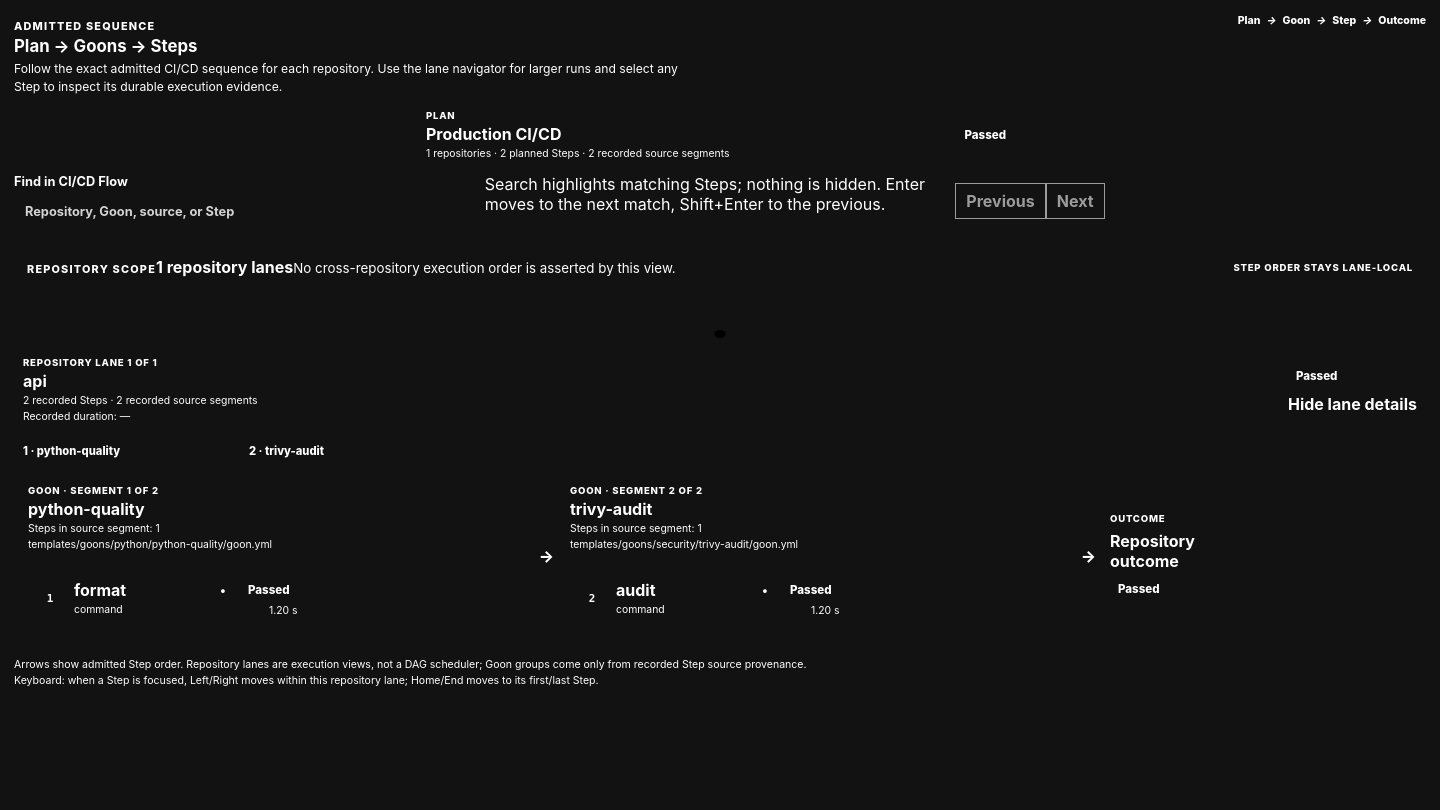
Test: GameTapeFlow › highlights matching Step context without hiding non-matching admitted Steps
The image size is (1440, 810).
Expected: the element named "CI/CD Flow finder" is shown, [14,174,1104,228]
Type "trivy-audit" into the search field labelled "Find in CI/CD Flow" at (249, 212), box [14,196,485,228]
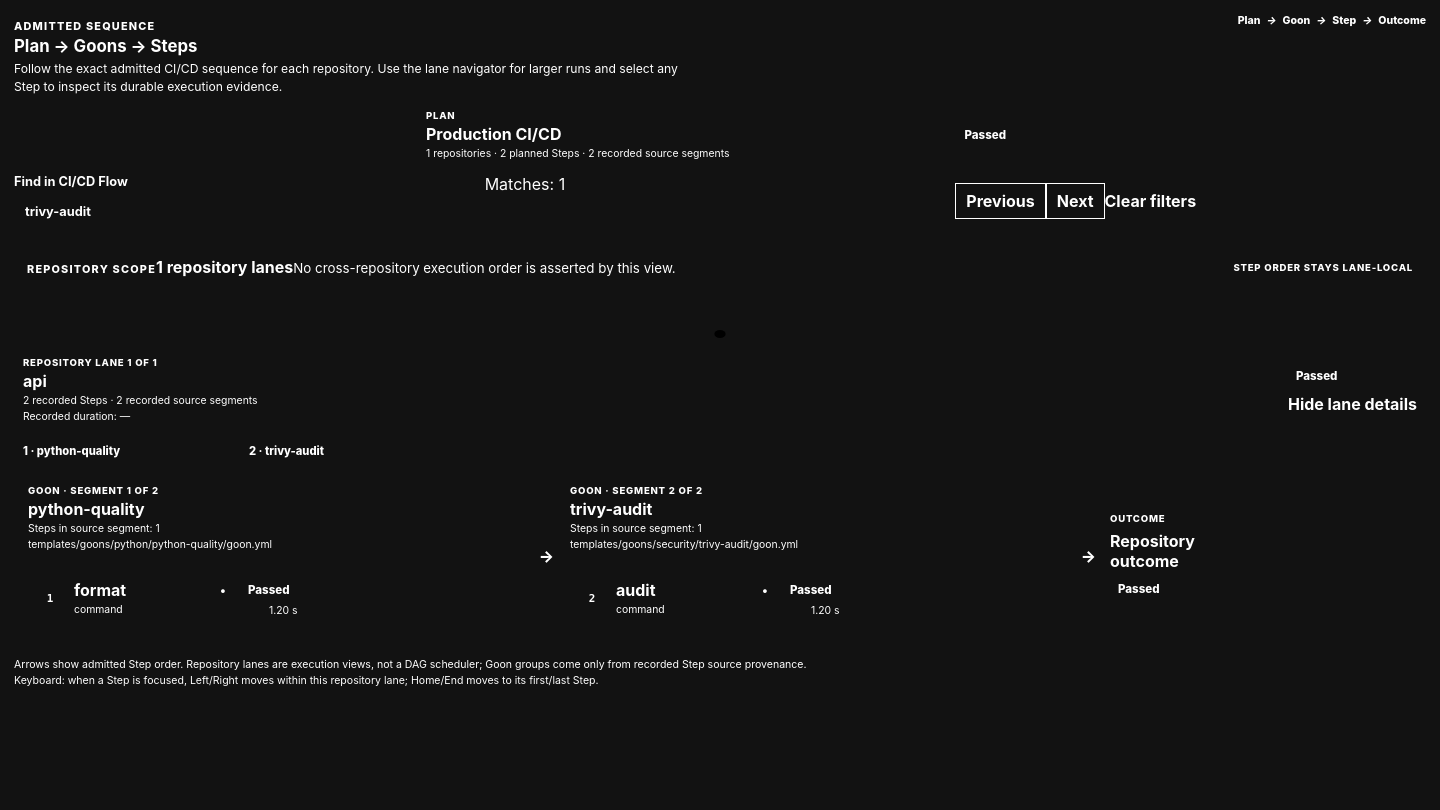
Expected: the button with aria-label "Step 1: format" is shown, [26,570,308,628]
Expected: the text "Matches: 1" is shown, [485,174,565,194]
